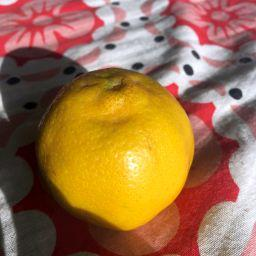Ripe: (39, 70, 193, 226)
